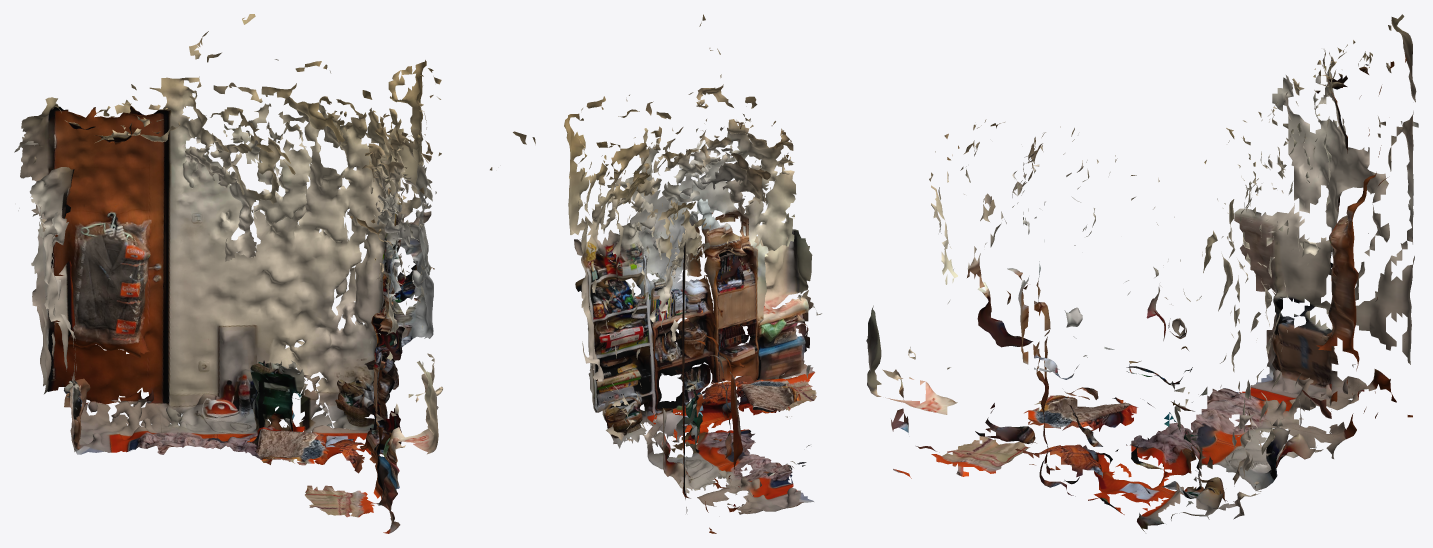
File: 120807-Kamar1-tex.glb
3 renders of one model, left to right at view 1: azimuth 30°, elevation 25°; view 2: azimuth 150°, elevation 25°; view 3: azimuth 270°, elevation 25°, orthographic. The views are drawn at different scales.
Parts seen in each view (by area): view 1: Node; view 2: Node; view 3: Node.
Boxes of the visible parts, bbox=[...] form: Node: bbox=[14, 14, 535, 533]; Node: bbox=[564, 14, 821, 533]; Node: bbox=[866, 14, 1418, 531].
Size of the model in its own units: 3.05 by 3.41 by 3.59.
9 materials, 9 textured.
